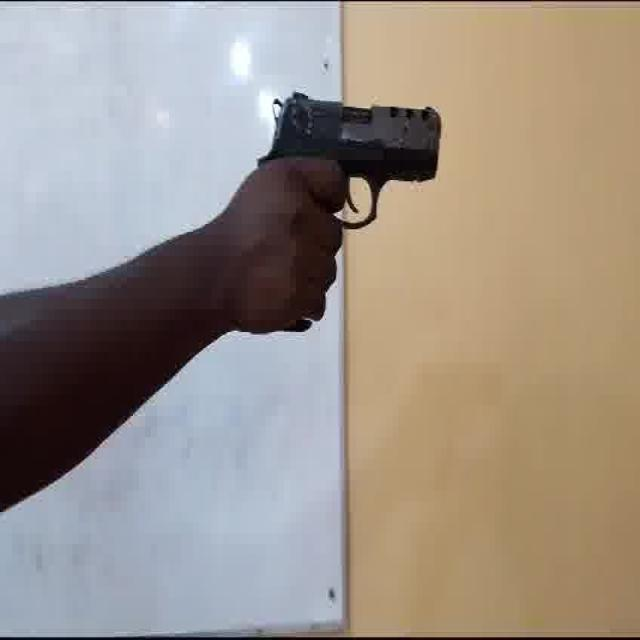weapon: (255, 90, 442, 234)
